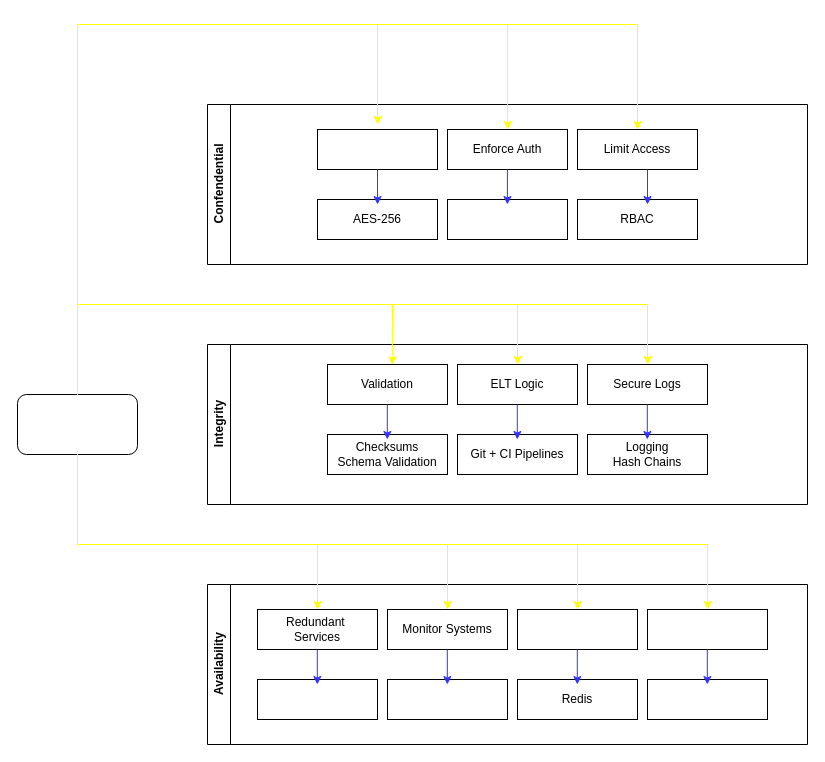
Image size: 825x762. Some labels were removed from this diagram. Here are the shapes that lost their labels. From the top down, the centre of each, then its label:
point 377,149: Encrypt Creds
point 507,219: OAuth + 2FA
point 77,424: ELT Platform
point 577,629: Caching
point 707,629: Recovery
point 317,699: Auto Recovery
point 447,699: :Load Balancing Failover Zones
point 707,699: Retry Logic Circuit Breaking
